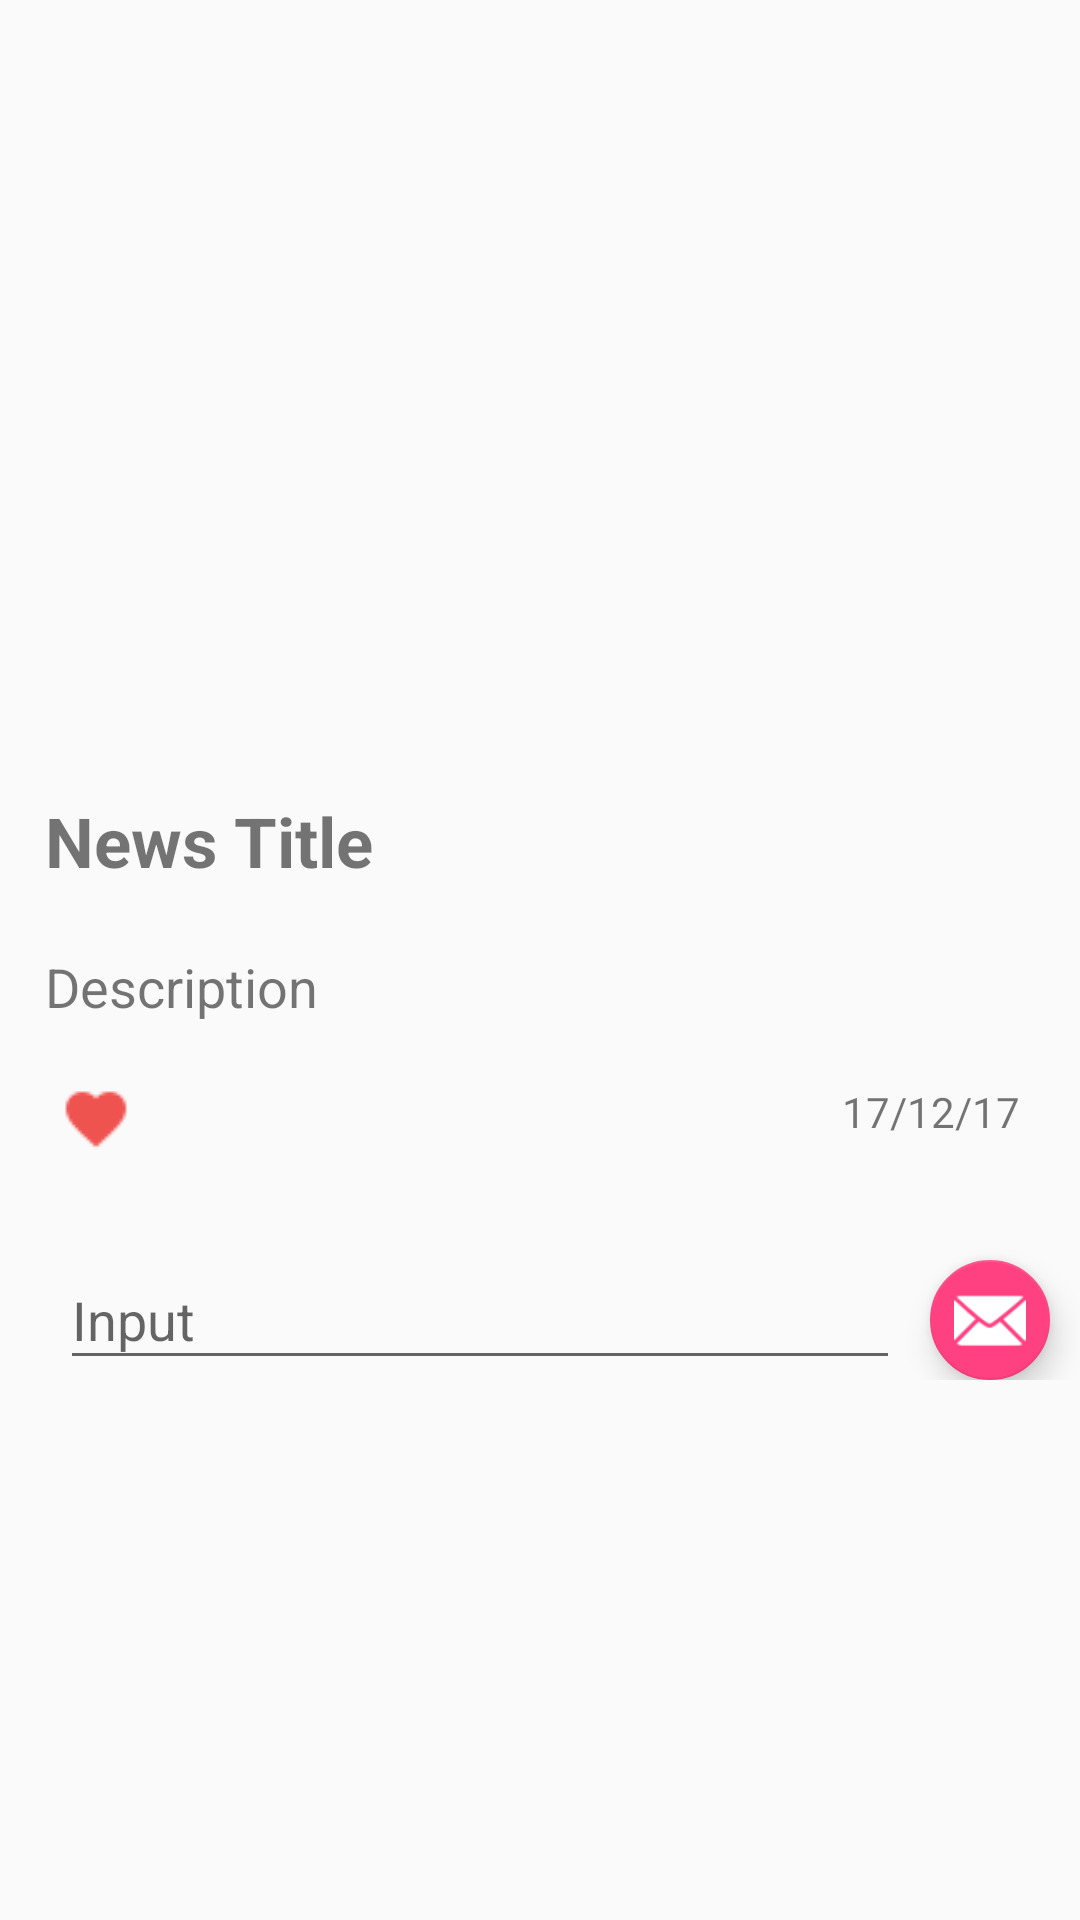

Named icons in this screenshot (1080w x 1920h) and their centers, point (x, y):
email: point (990, 1320)
heart: point (96, 1119)
